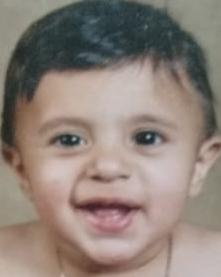face: (5, 2, 221, 264)
